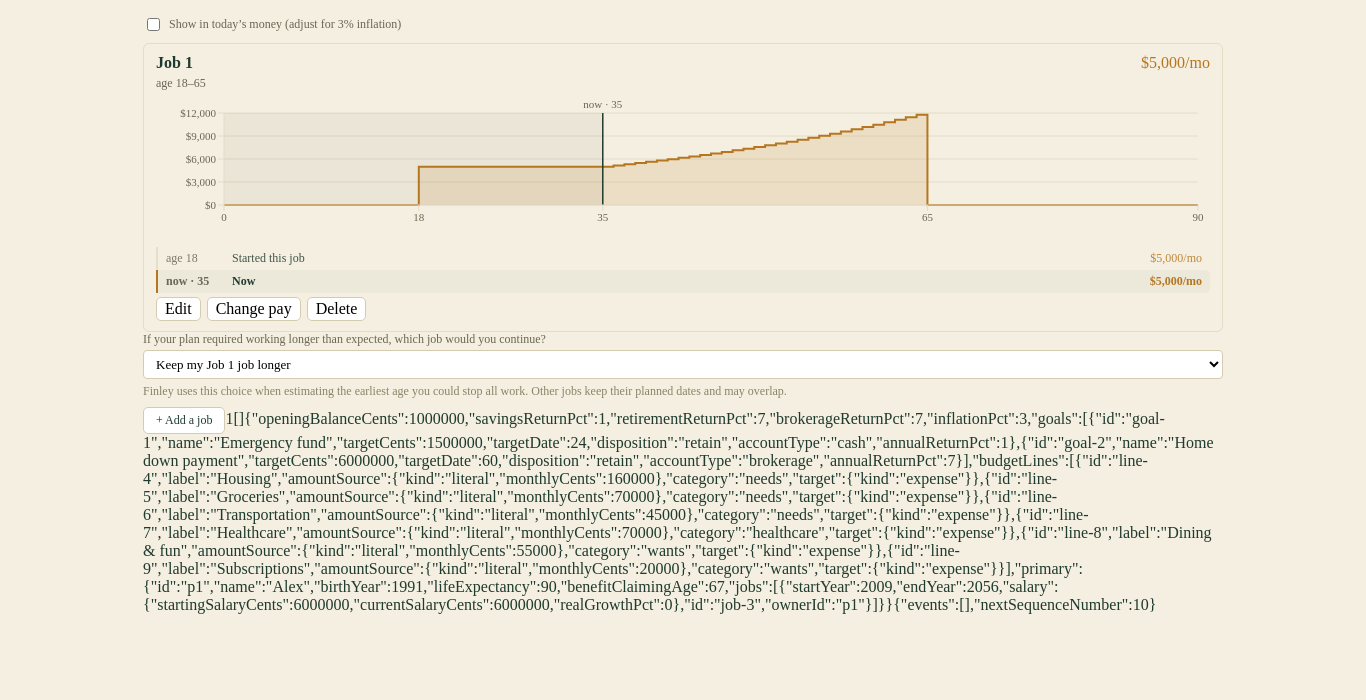
JobsPanel — add / edit / delete › adds a second job — a person may hold several, none privileged
Click the button "+ Add a job".
click(184, 420)  # box [143, 407, 225, 434]
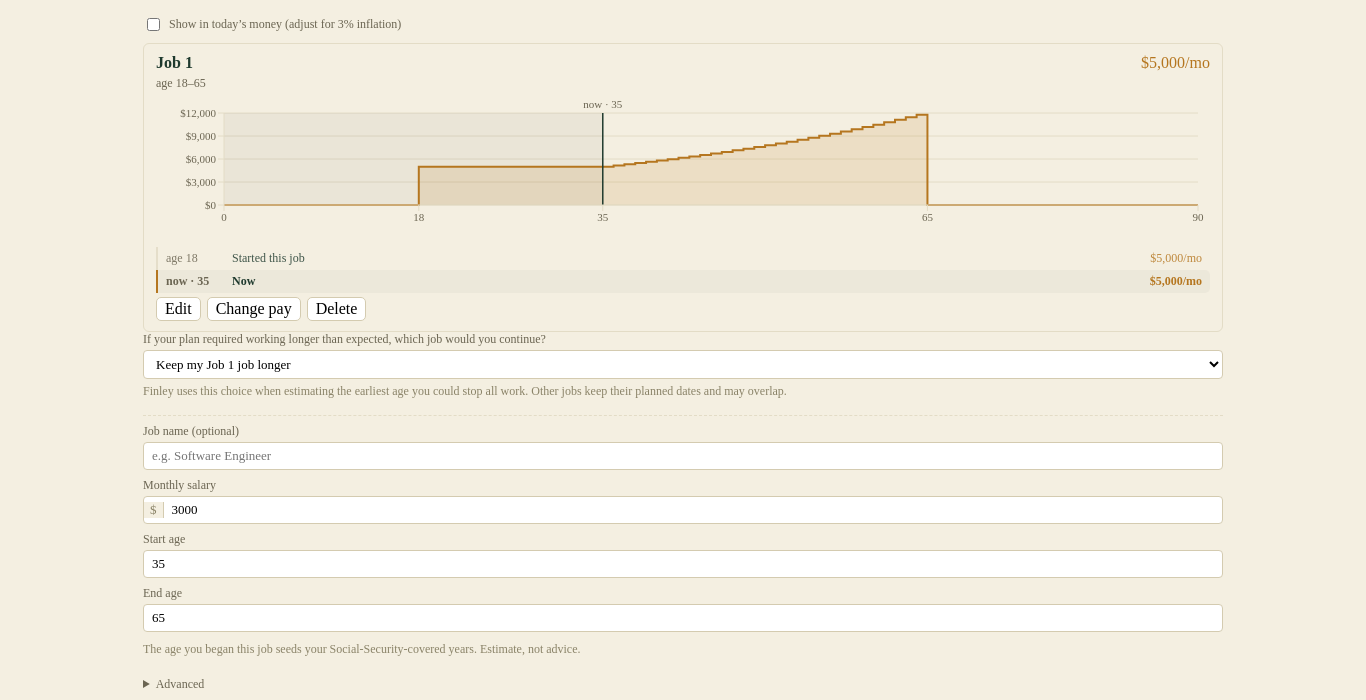
Replace the text in the number field labelled "Monthly salary $" with "2000" at [693, 510], box [164, 497, 1222, 523]
(page scrolled)
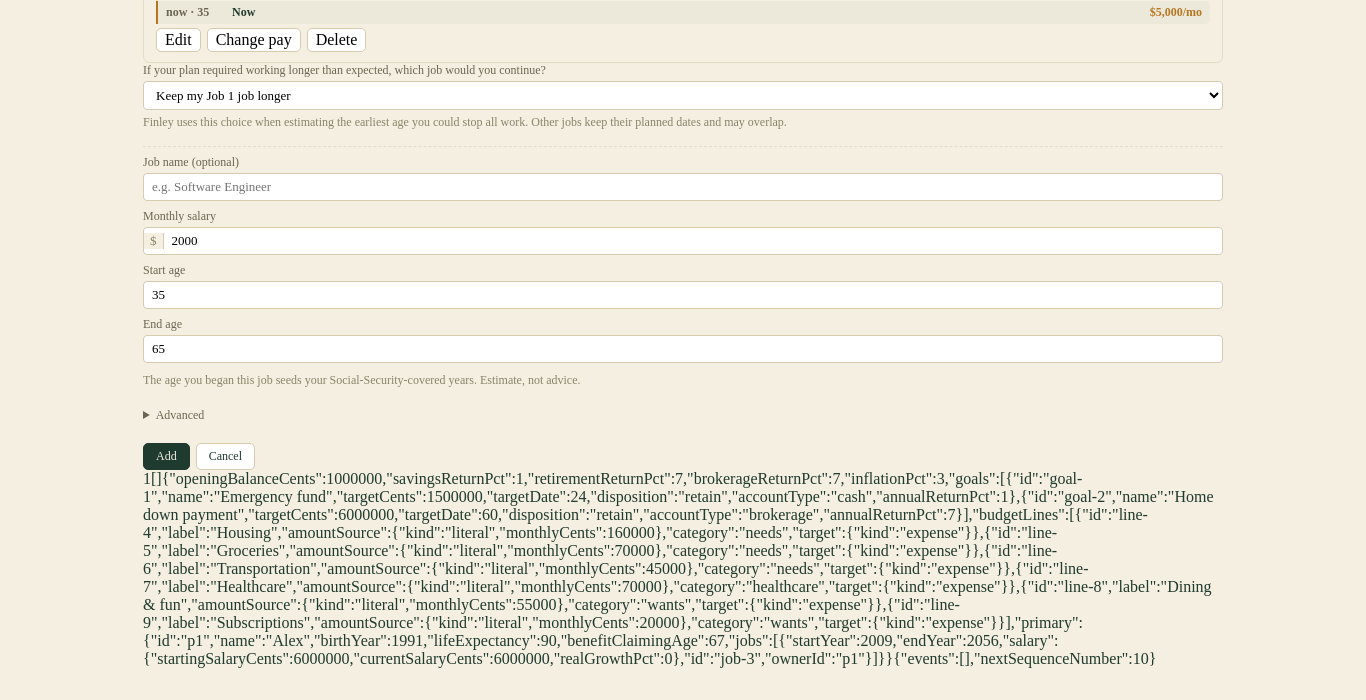
Click the button "Add".
click(166, 456)  # box [143, 443, 190, 470]
(page scrolled)
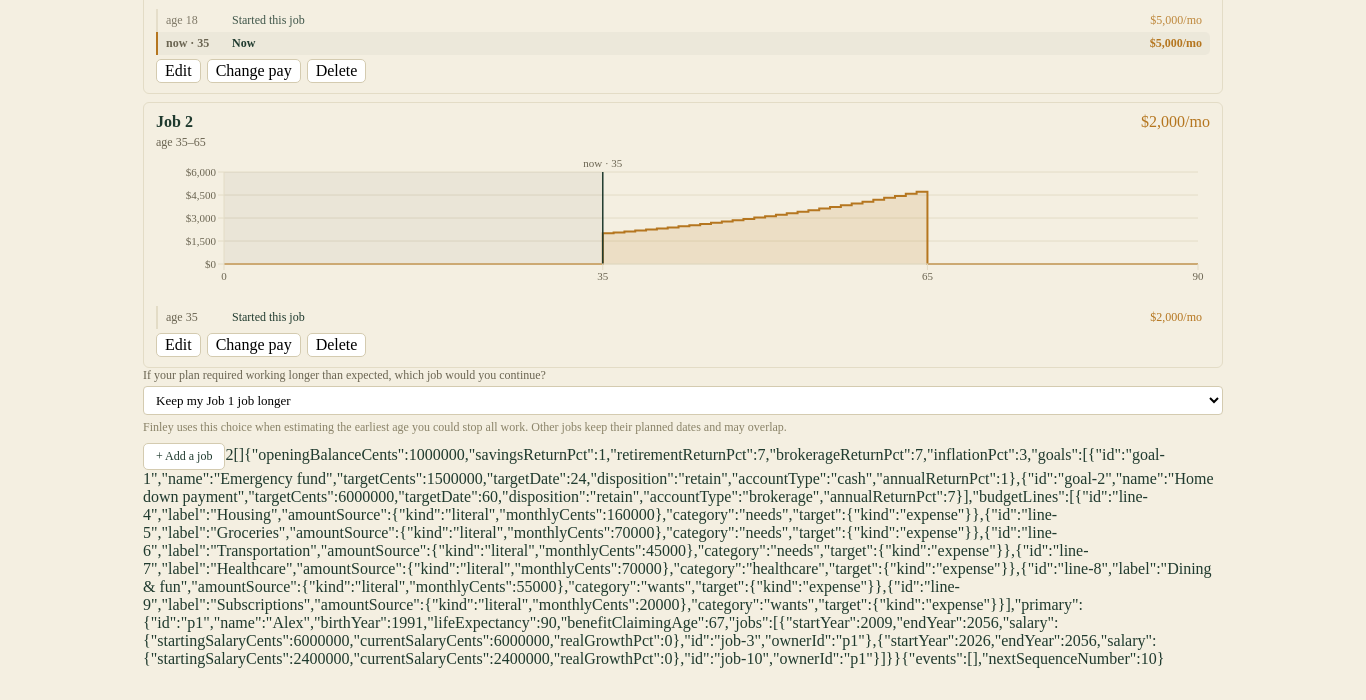
Check: the 1st text titled "Current pay" reads "$2,000/mo", box [1141, 113, 1210, 131]
